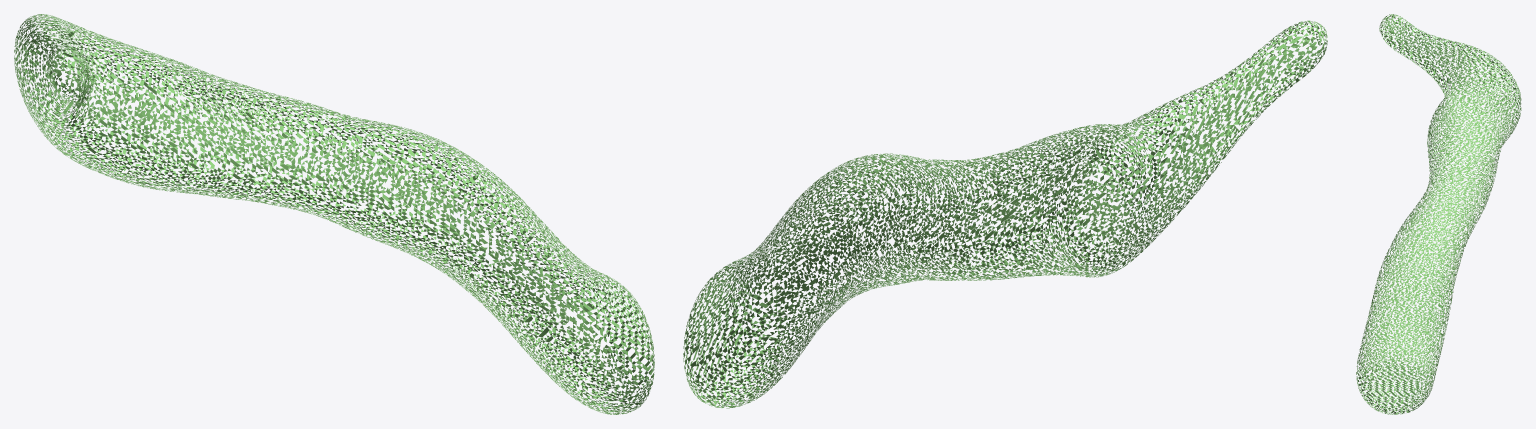
Rendered from morph_015.glb.
The picture shows the model from 3 angles, left to right: view 1: azimuth 30°, elevation 25°; view 2: azimuth 150°, elevation 25°; view 3: azimuth 270°, elevation 25°; orthographic projection. The views are drawn at different scales.
Size of the model in its own units: 114 by 92.17 by 53.21.
